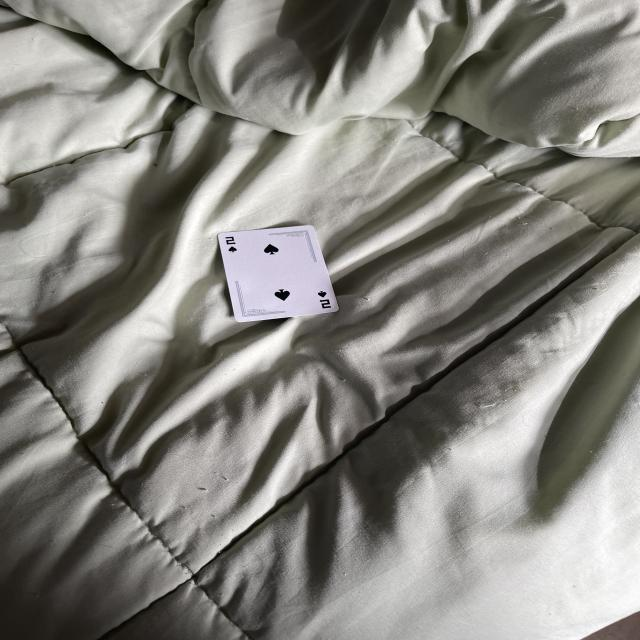2 of spades: (217, 225, 340, 323)
